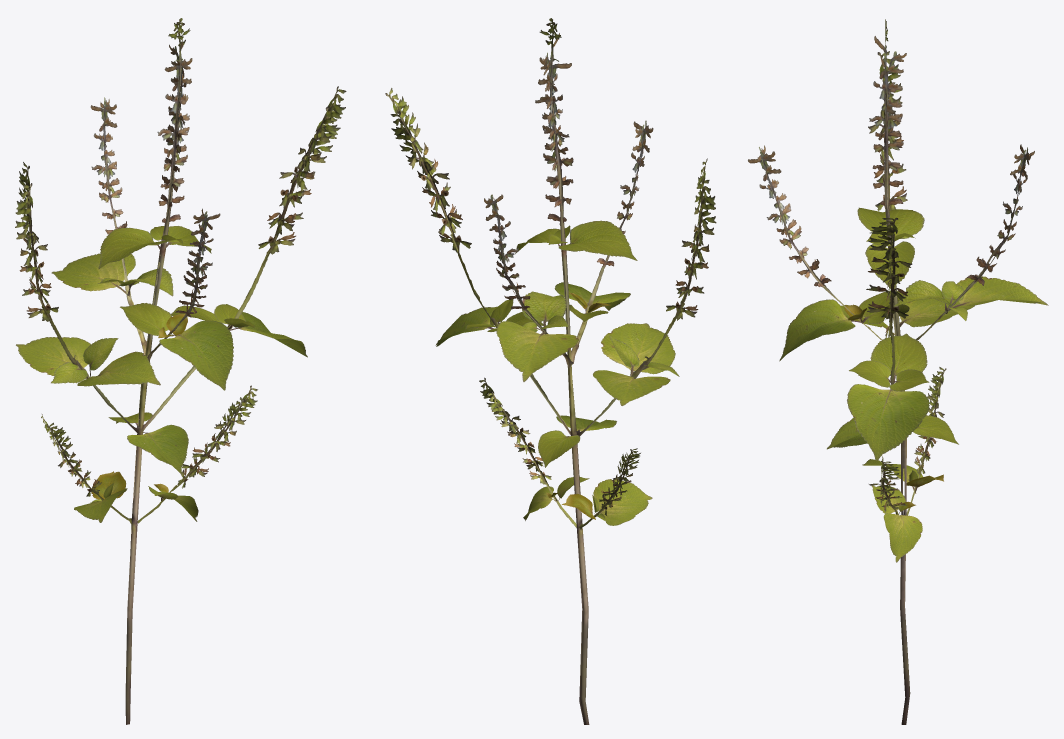
The model's file is SM_Shrub.glb.
3 renders of one model, left to right at view 1: azimuth 30°, elevation 25°; view 2: azimuth 150°, elevation 25°; view 3: azimuth 270°, elevation 25°, orthographic. The views are drawn at different scales.
Visible parts, largest first — view 1: SM_Shrub; view 2: SM_Shrub; view 3: SM_Shrub.
Boxes of the visible parts, x1=… form: SM_Shrub: x1=15, y1=18, x2=346, y2=724; SM_Shrub: x1=385, y1=18, x2=716, y2=724; SM_Shrub: x1=748, y1=19, x2=1048, y2=724.
Size of the model in its own units: 0.7222 by 1.45 by 0.5443.
1 material, 1 textured.
